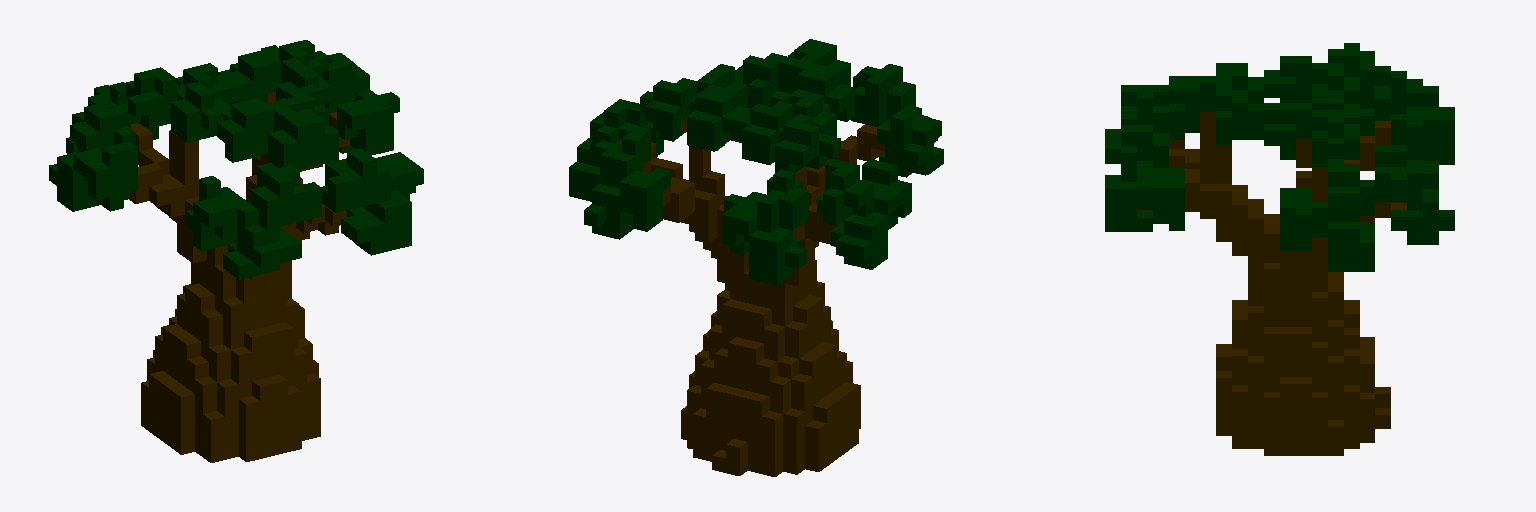
3 views of the same model, side by side, from view 1: azimuth 30°, elevation 25°; view 2: azimuth 150°, elevation 25°; view 3: azimuth 270°, elevation 25° (orthographic).
Visible parts, largest first — view 1: 2; view 2: 2; view 3: 2.
Boxes of the visible parts, x1=… form: 2: x1=49, y1=40, x2=423, y2=462; 2: x1=569, y1=39, x2=943, y2=476; 2: x1=1105, y1=43, x2=1454, y2=455.
Size of the model in its own units: 4.4 by 4.8 by 4.4.
Materials: 1 (1 with a texture image).